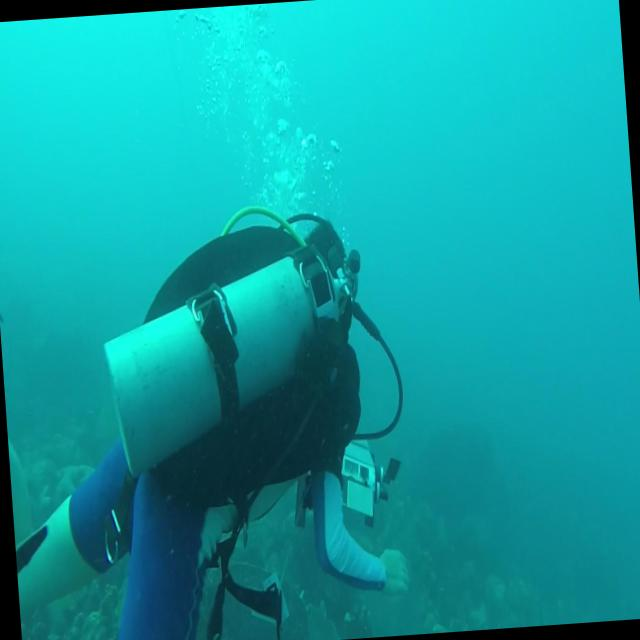human: (0, 199, 417, 640)
